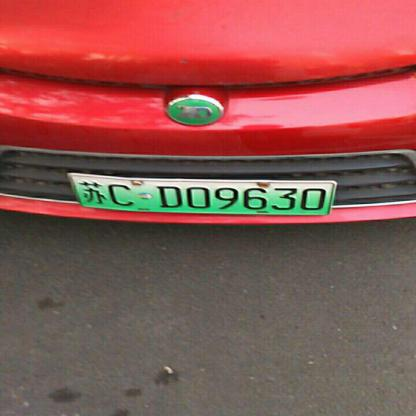lp: (68, 175, 332, 214)
